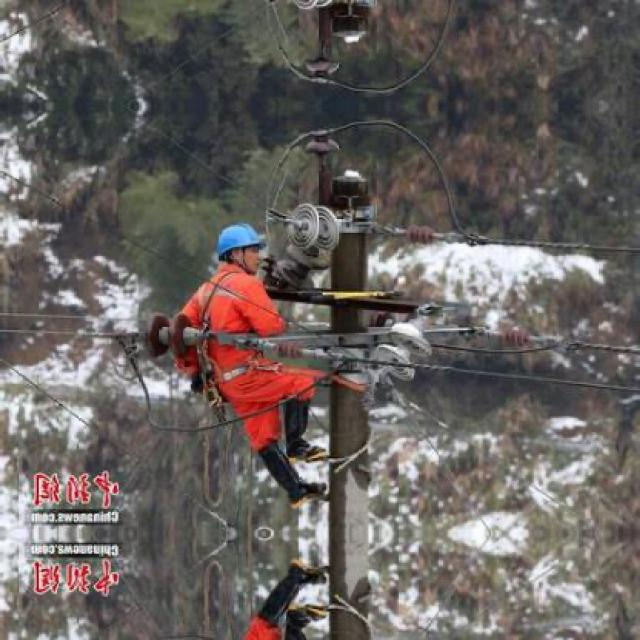helmet: (211, 221, 266, 276)
